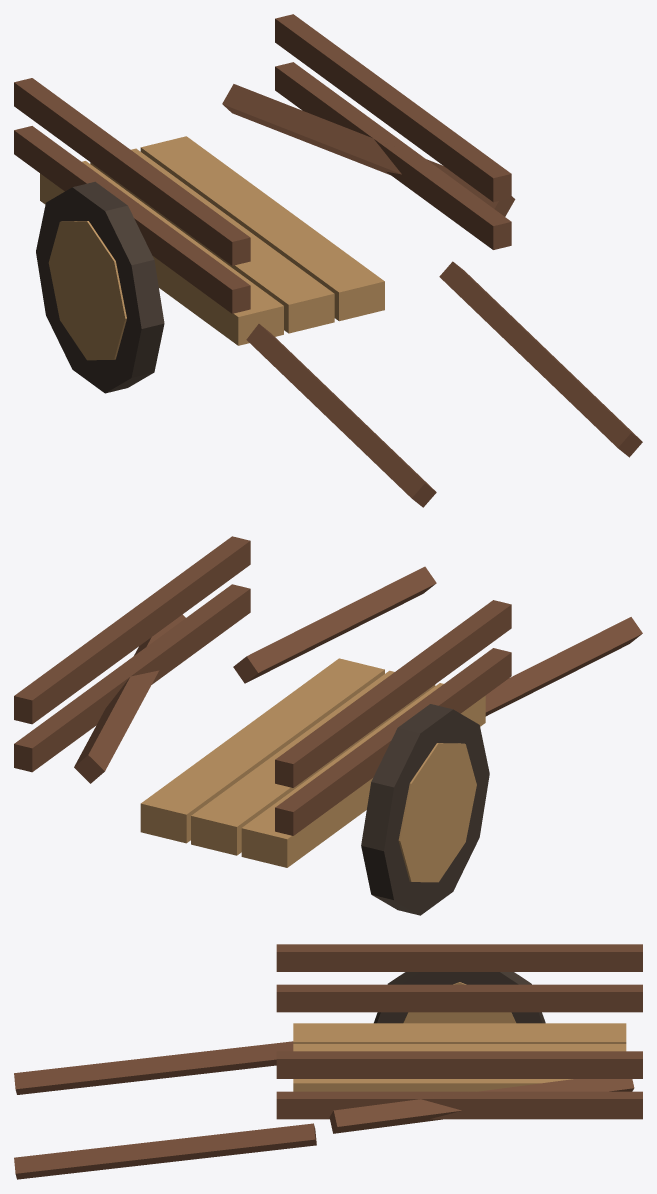
File: broken_cart.glb
3 views of the same model, one above another, from view 1: azimuth 30°, elevation 25°; view 2: azimuth 150°, elevation 25°; view 3: azimuth 270°, elevation 25° (orthographic). The views are drawn at different scales.
Visible parts, largest first — view 1: broken_cart; view 2: broken_cart; view 3: broken_cart.
Part boxes in pixels (<box>): broken_cart: <box>14,14,642,507</box>; broken_cart: <box>14,536,642,915</box>; broken_cart: <box>14,944,642,1179</box>.
Size of the model in its own units: 1.55 by 0.8804 by 2.83.
